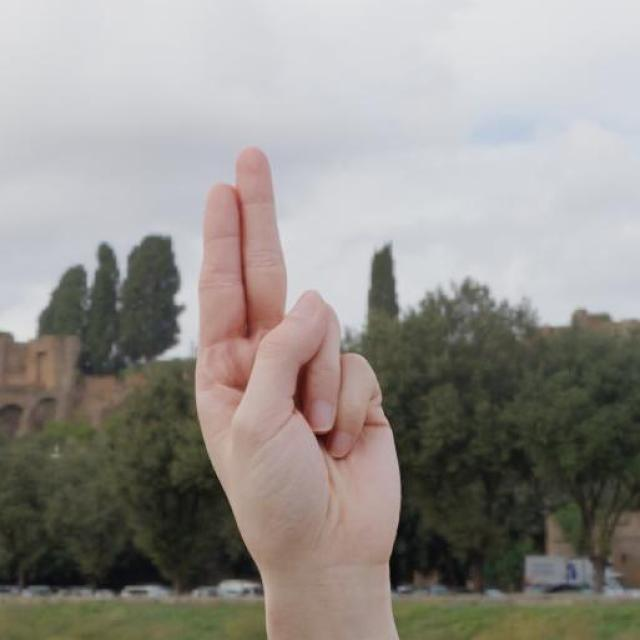U: (192, 144, 407, 570)
